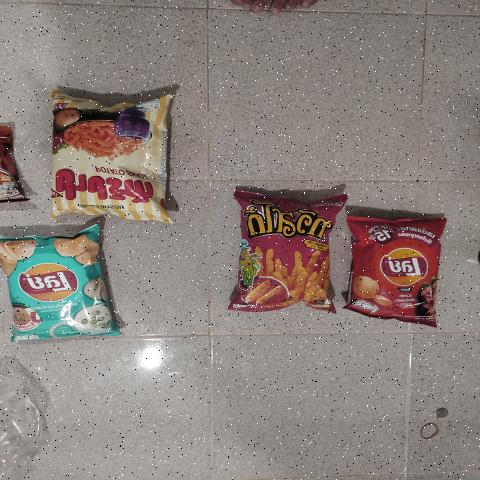lay_blue: (20, 240, 94, 332)
paprika: (64, 99, 166, 207)
twisco: (245, 214, 324, 306)
